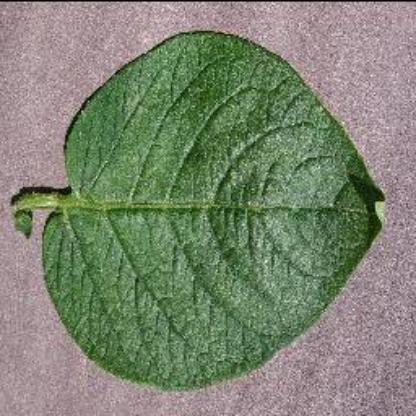Healthy-plant: (32, 23, 384, 372)
